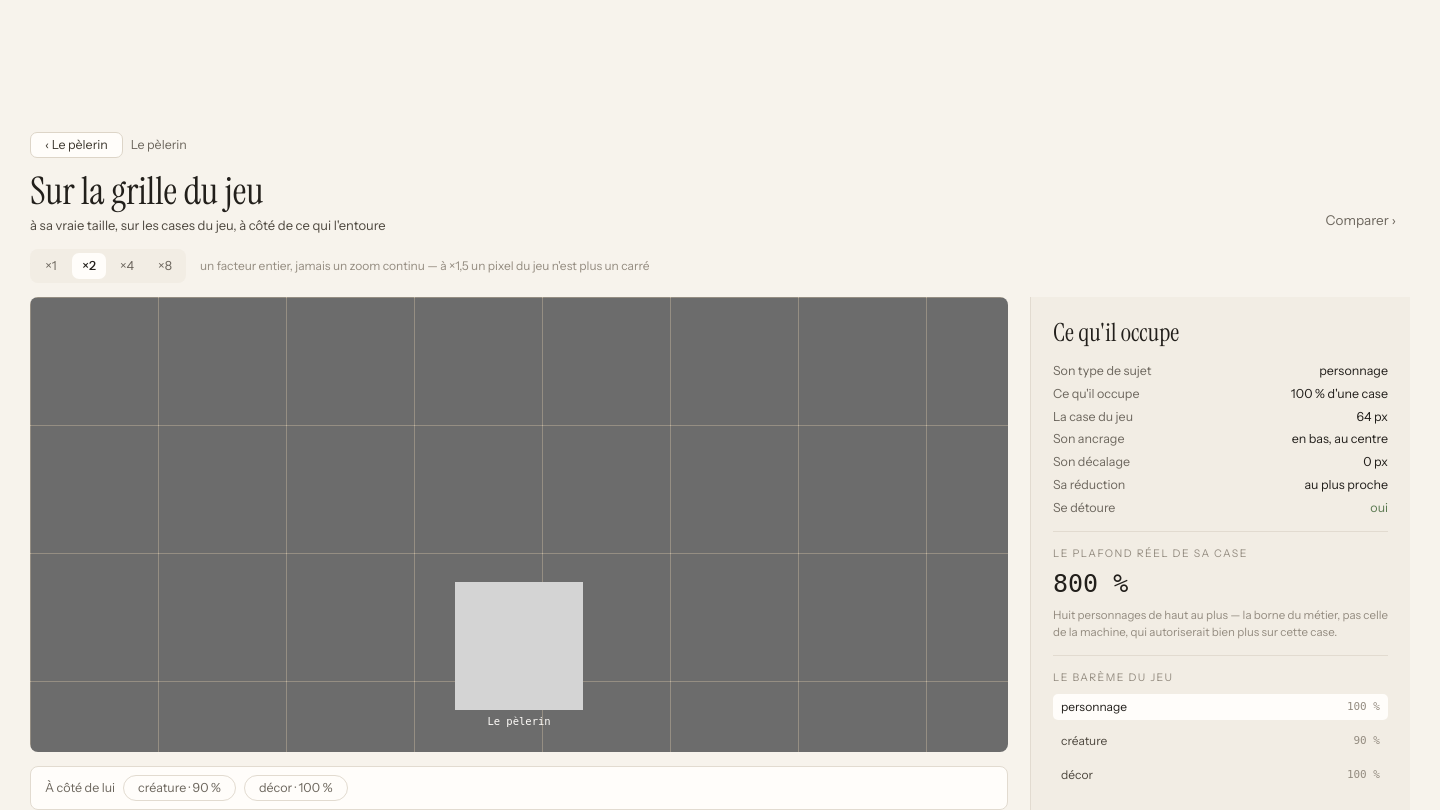
Test: les voisins › cliqué, un voisin apparaît dans la scène
The image size is (1440, 810).
(page scrolled)
Click the button "créature · 90 %" at (179, 788), box [123,775,236,801]
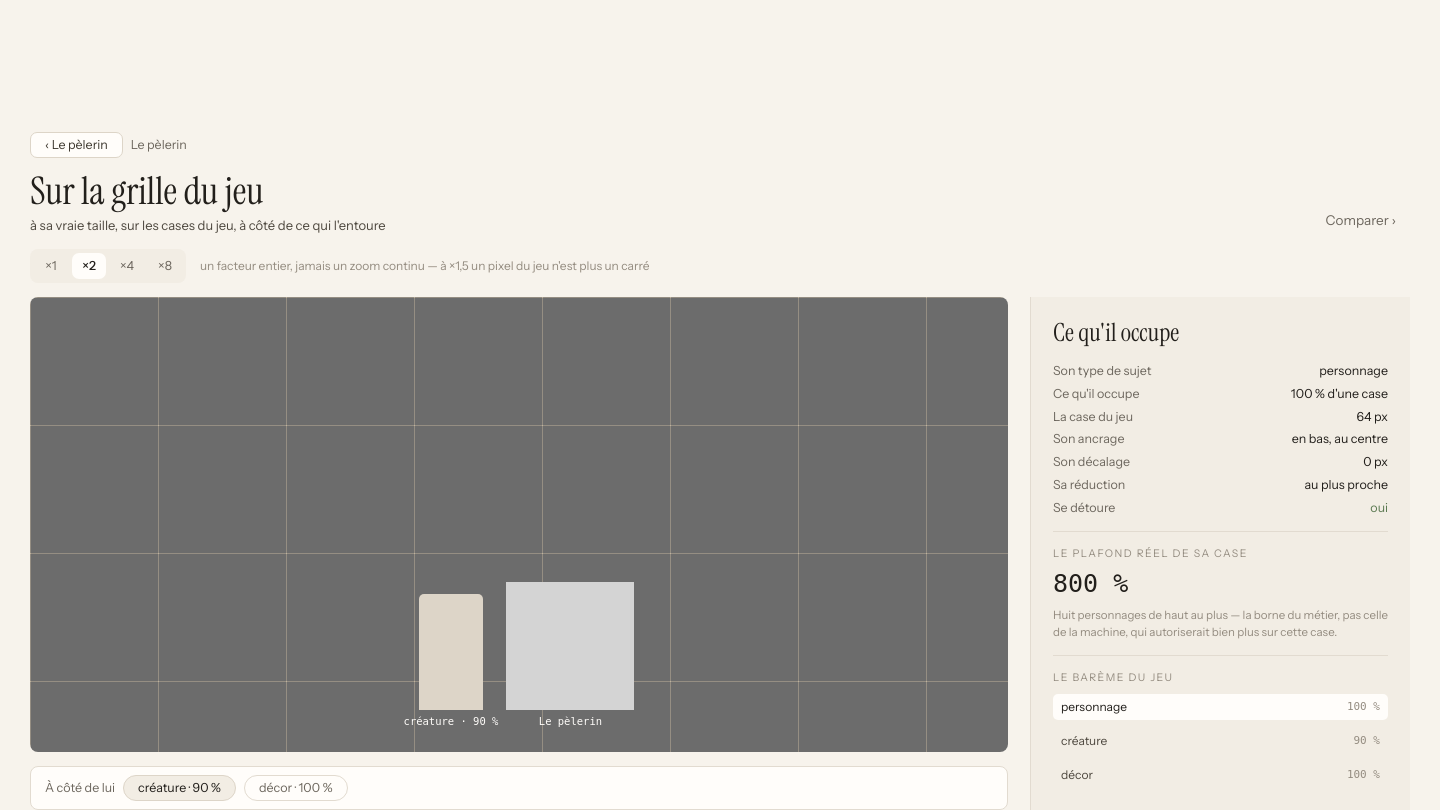
Expected: the text "créature · 90 %" is shown, [404,714,498,730]
